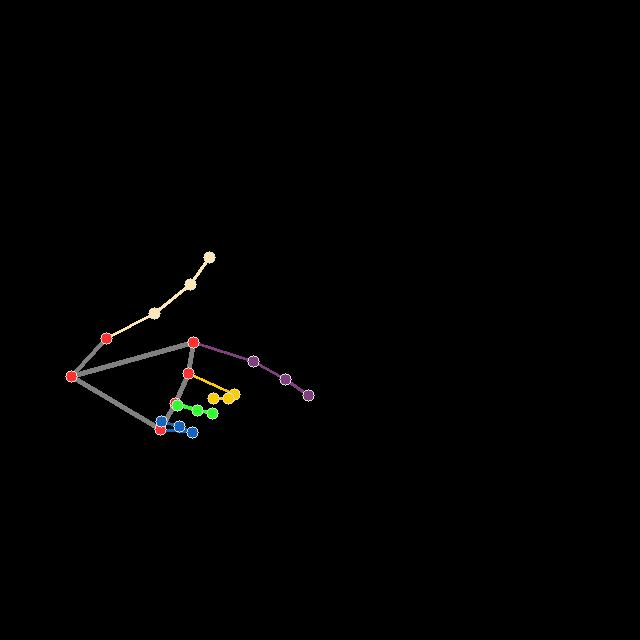gun: (61, 247, 324, 439)
